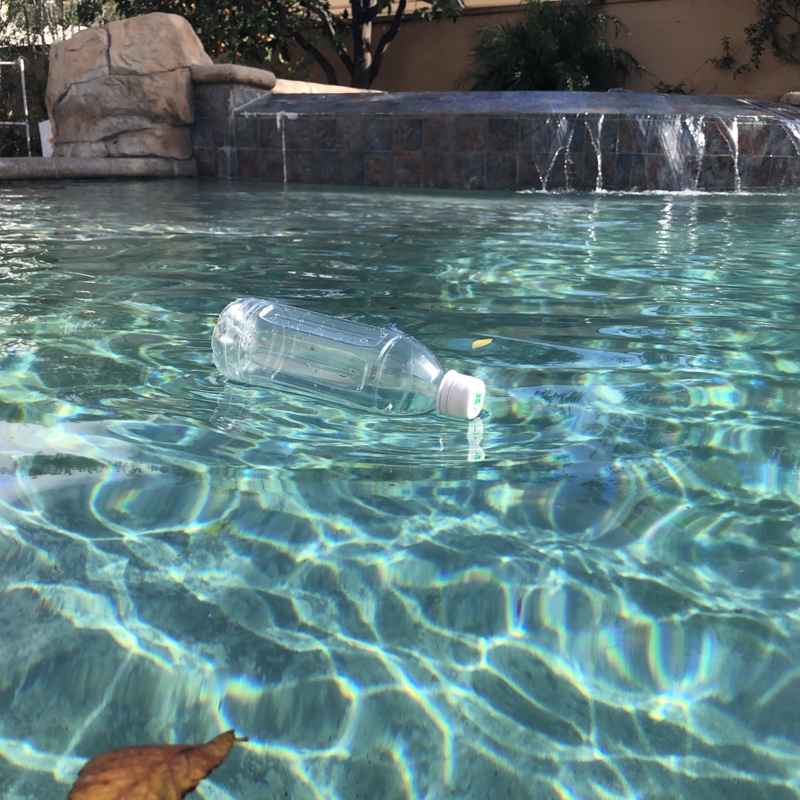Plastic Bottle: (204, 292, 487, 426)
